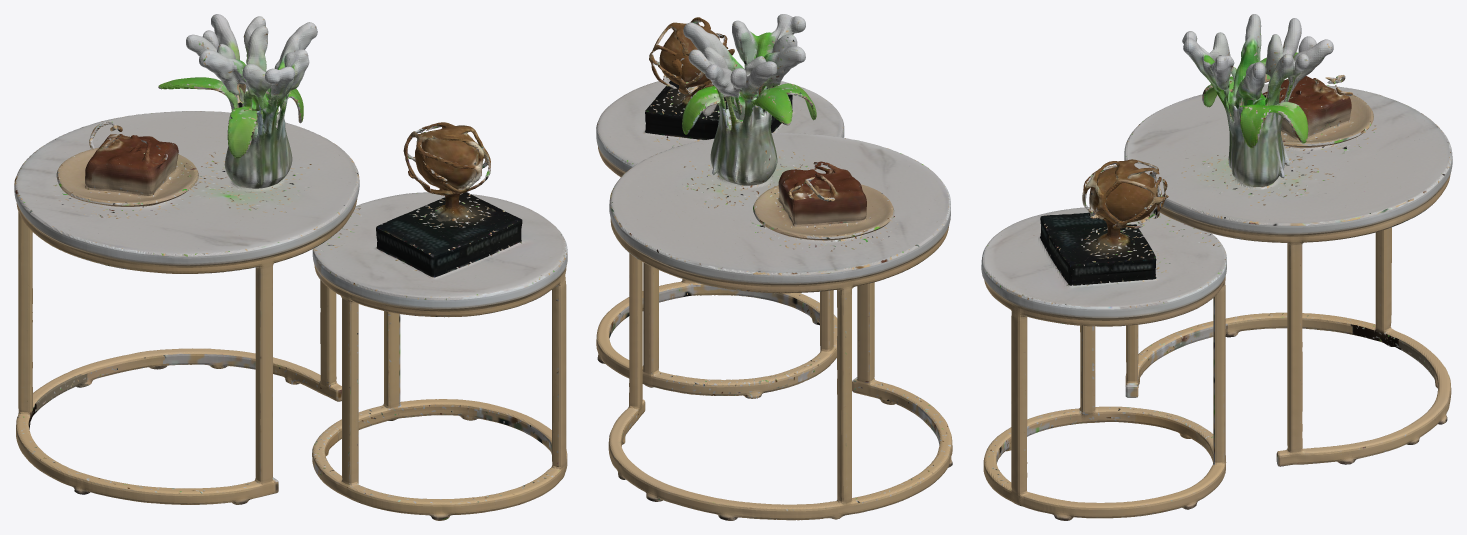
The model's file is nesting-tables.glb.
The picture shows the model from 3 angles, left to right: view 1: azimuth 30°, elevation 25°; view 2: azimuth 150°, elevation 25°; view 3: azimuth 270°, elevation 25°; orthographic projection. The views are drawn at different scales.
Visible parts, largest first — view 1: geometry_0; view 2: geometry_0; view 3: geometry_0.
Part boxes in pixels (x1,y1,x2,y2): geometry_0: (14,14,567,520); geometry_0: (596,14,952,520); geometry_0: (981,14,1452,520).
Bounding box in the file's own units: 1.96 × 1.8 × 1.99.
Materials: 1 (1 with a texture image).
